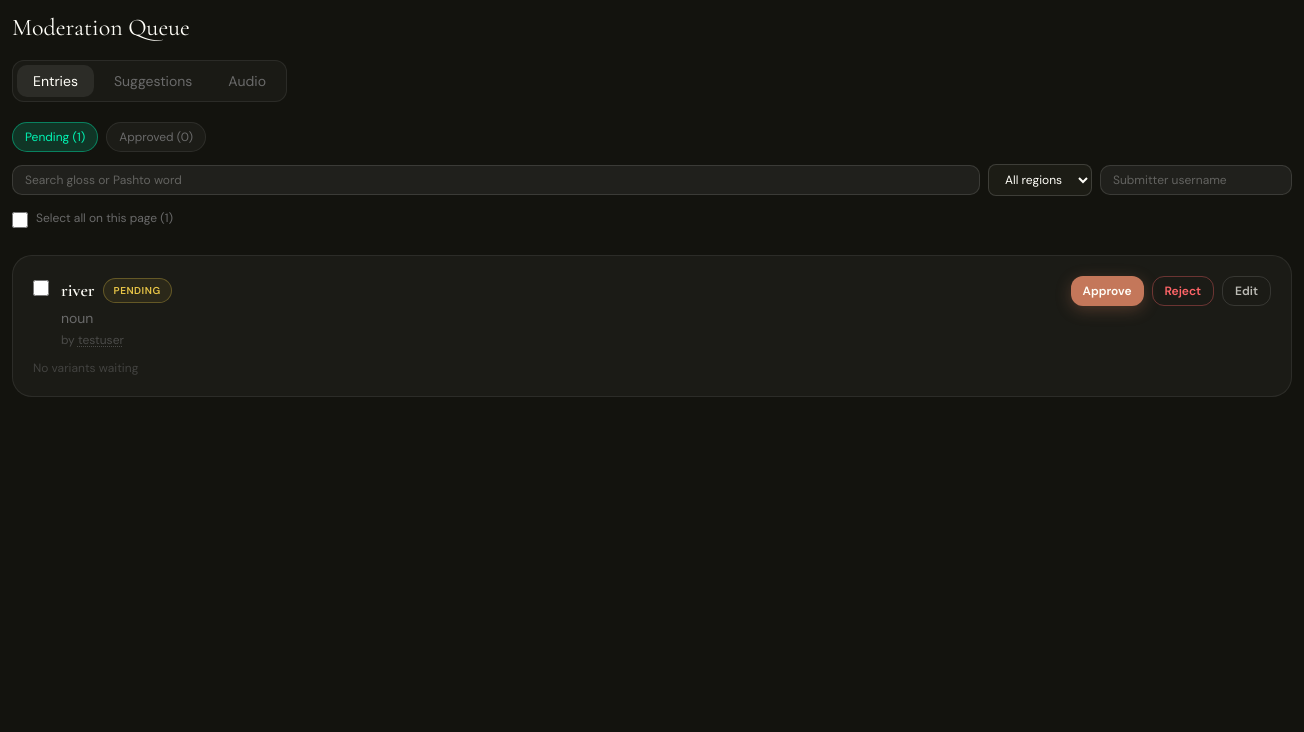
Test case: Inline edit form — Concepts tab › does NOT navigate away when Edit is clicked — form appears inline
The image size is (1304, 732).
expect the text "river" is shown: met, box [61,276,95,304]
Click the button "Edit".
click(1247, 291)  # box [1222,276,1271,306]
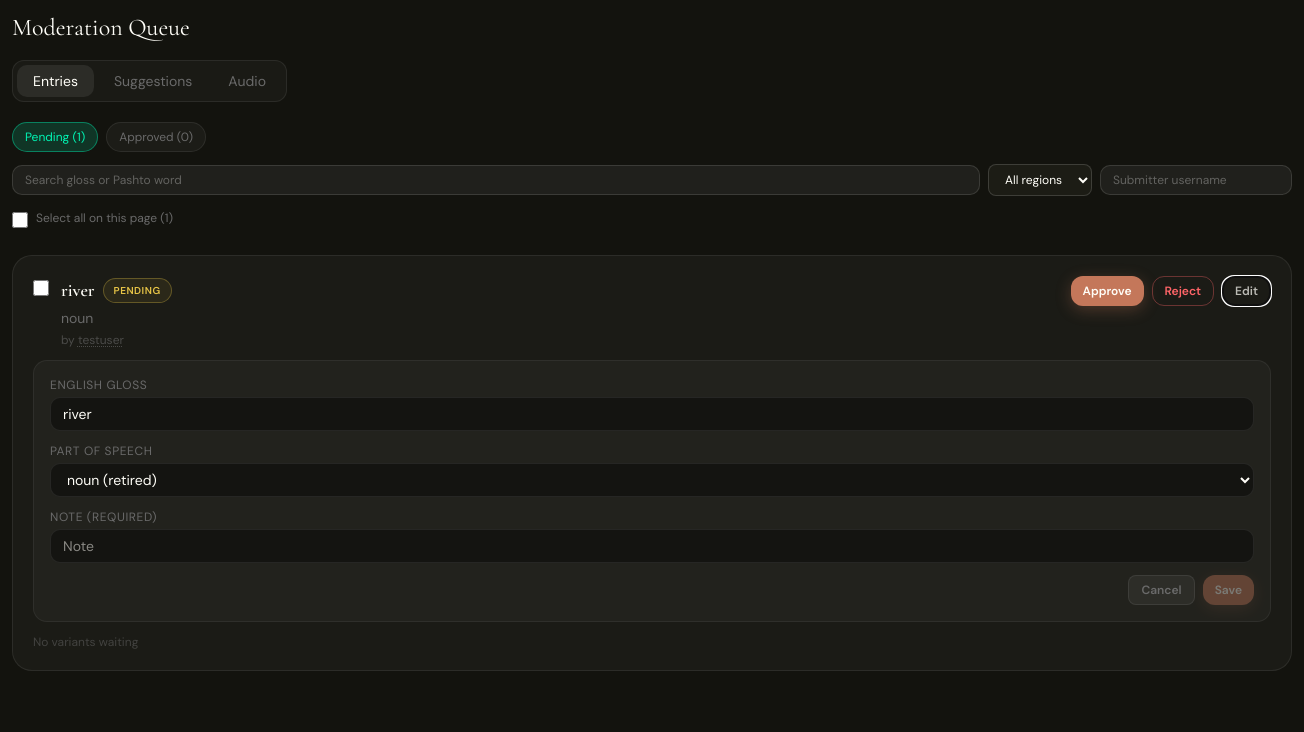
expect the text "river" is shown: met, box [61,276,95,304]
expect the form is shown: met, box [33,360,1271,622]
